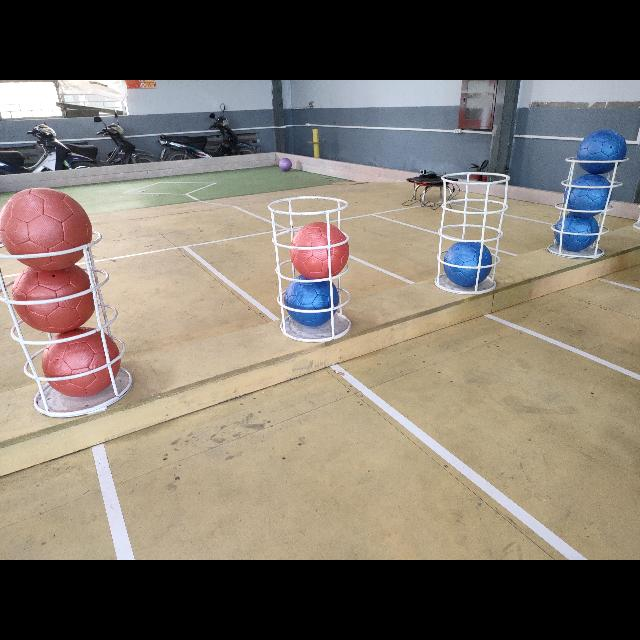B: (286, 274, 340, 328), (442, 239, 493, 289), (578, 131, 626, 173), (562, 174, 612, 214), (553, 210, 599, 252)
R: (0, 185, 94, 268), (10, 265, 98, 335), (43, 328, 121, 398), (288, 222, 349, 280)
